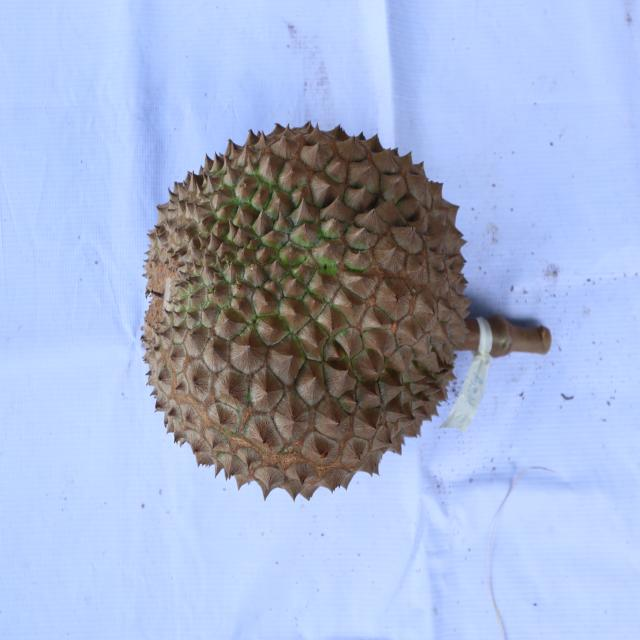mature: (137, 119, 472, 500)
